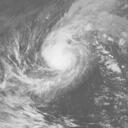cyclone: (42, 27, 84, 78)
